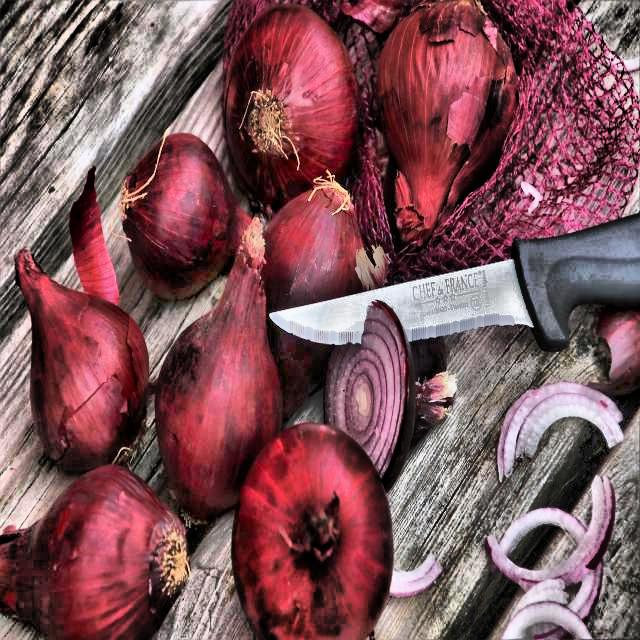knife: (267, 205, 640, 348)
